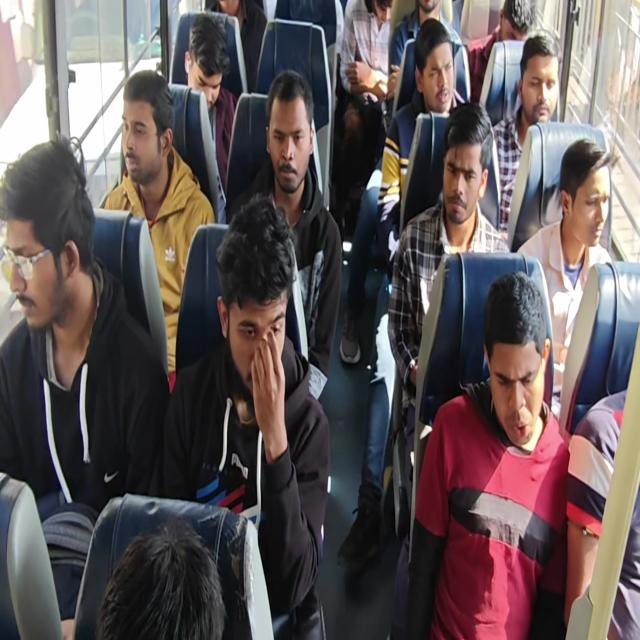person: (2, 169, 88, 318), (104, 541, 225, 640), (482, 300, 554, 452), (227, 244, 287, 406), (260, 82, 314, 190), (116, 98, 171, 188), (560, 159, 613, 251), (441, 117, 479, 218), (180, 28, 229, 105), (518, 46, 560, 120), (417, 46, 455, 111), (496, 0, 530, 40), (409, 0, 446, 31), (366, 0, 393, 21)
